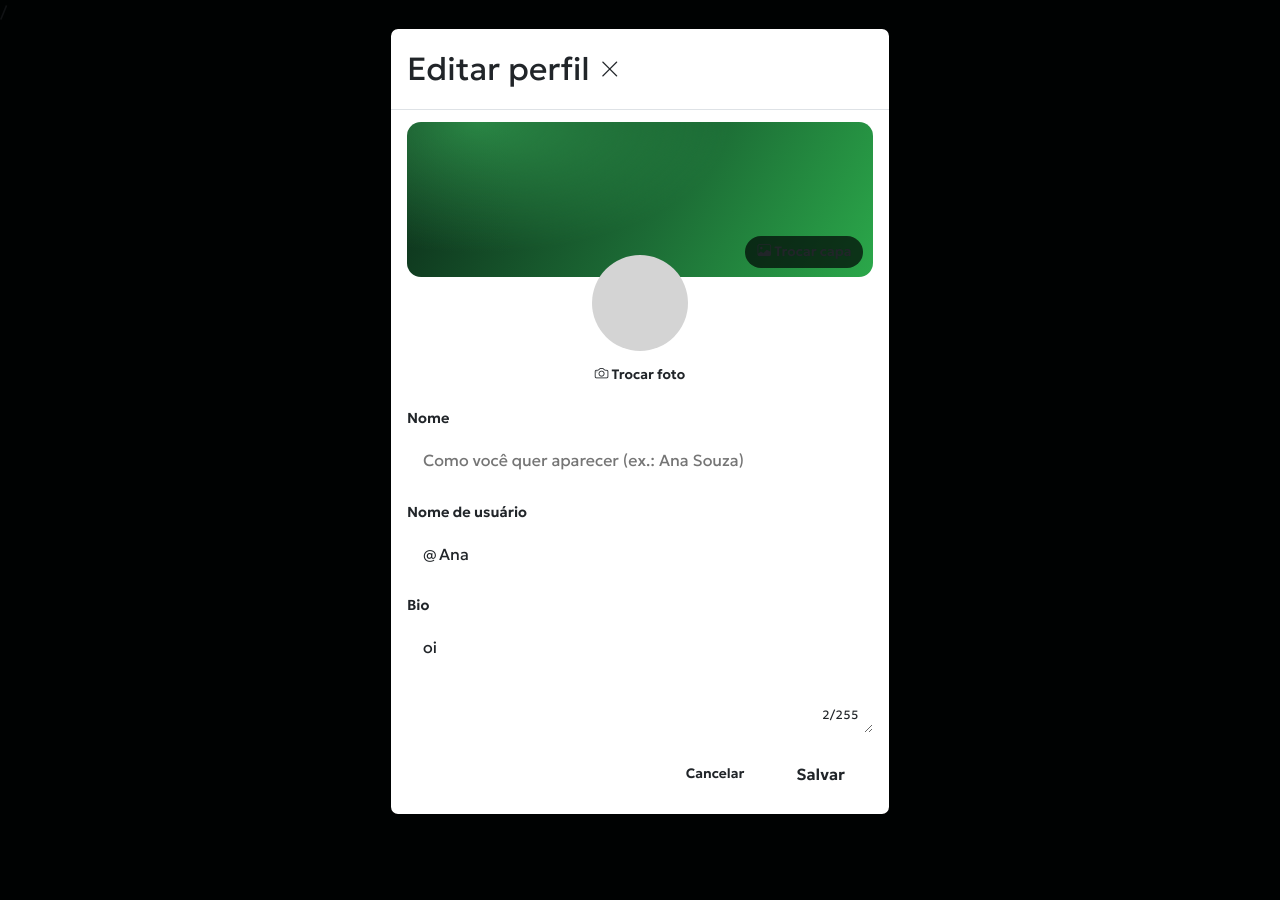
Test: EditProfileModal › avisa as regras quando o nome novo não serve e não deixa salvar
Replace the text in the field labelled "Nome de usuário" with "ana b" at point(640, 554), box [407,530,873,578]
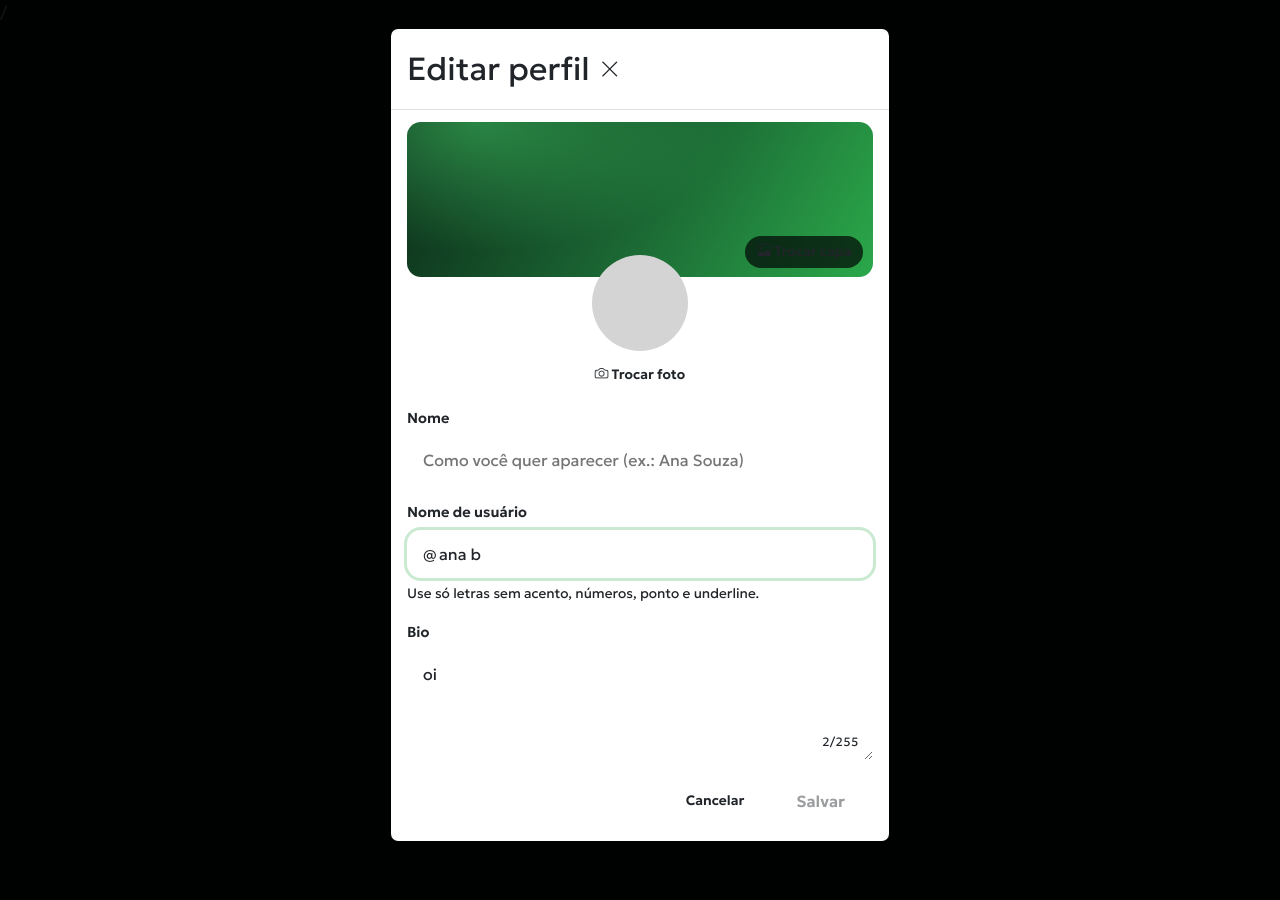
Now the button "Salvar" is disabled, box [768,777,873,825]
Now the text "Use só letras sem acento, números, ponto e underline." is shown, box [407,585,759,602]
